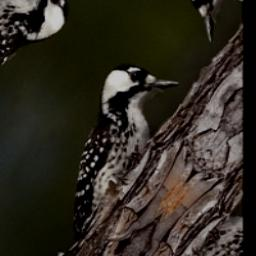Woodpecker: (18, 35, 199, 250)
